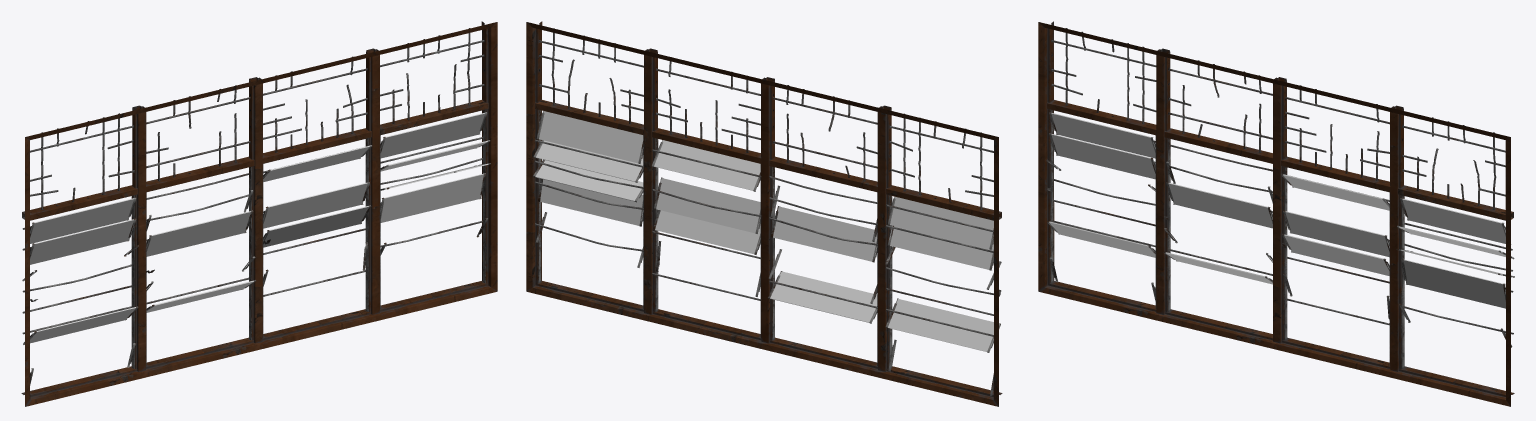
The model's file is 333_windowframe_2.FBX.
3 renders of one model, left to right at view 1: azimuth 30°, elevation 25°; view 2: azimuth 150°, elevation 25°; view 3: azimuth 330°, elevation 25°, orthographic.
Visible parts, largest first — view 1: 333_windowframe_2; view 2: 333_windowframe_2; view 3: 333_windowframe_2.
Part boxes in pixels (<box>): 333_windowframe_2: <box>21,21,497,406</box>; 333_windowframe_2: <box>526,21,1002,406</box>; 333_windowframe_2: <box>1038,21,1514,406</box>.
Size of the model in its own units: 351 by 192 by 18.84.
